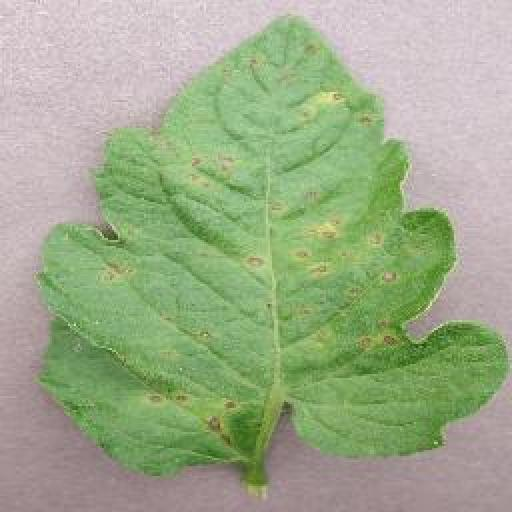Septoria: (44, 15, 507, 476)
